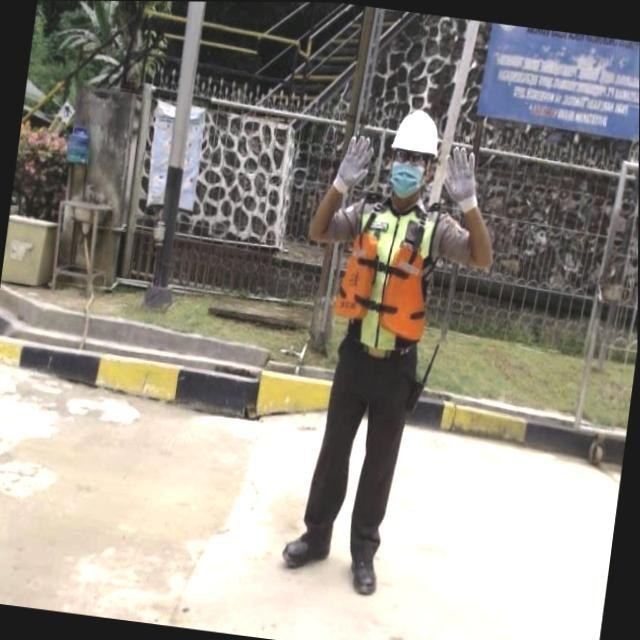goggles_on: (388, 144, 433, 167)
